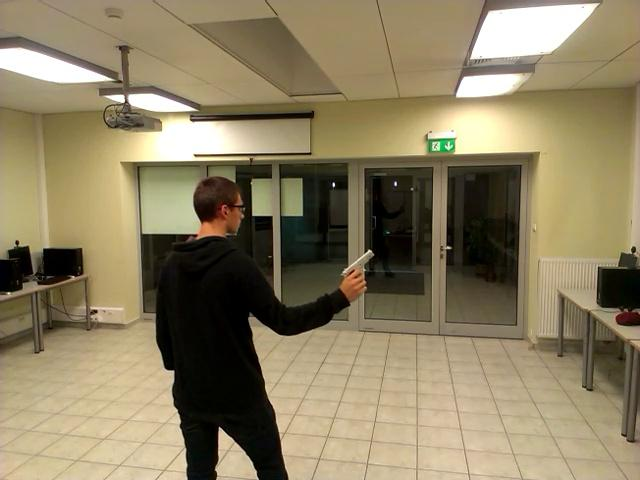gun: (330, 239, 380, 301)
